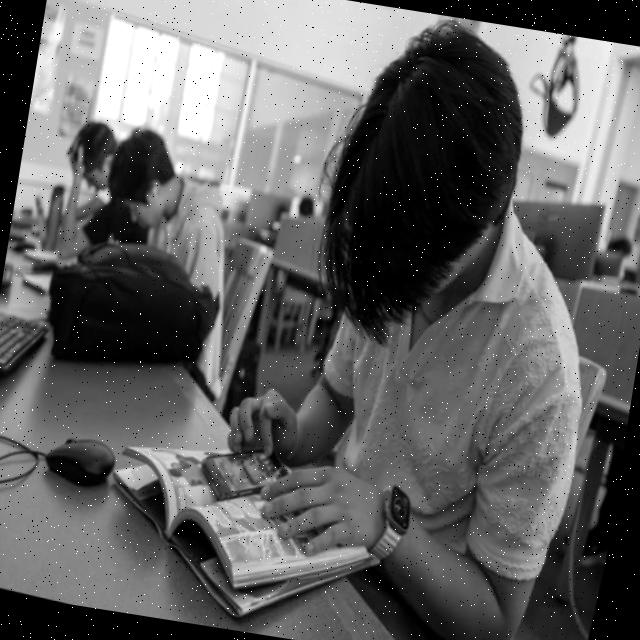phone: (192, 432, 298, 518)
